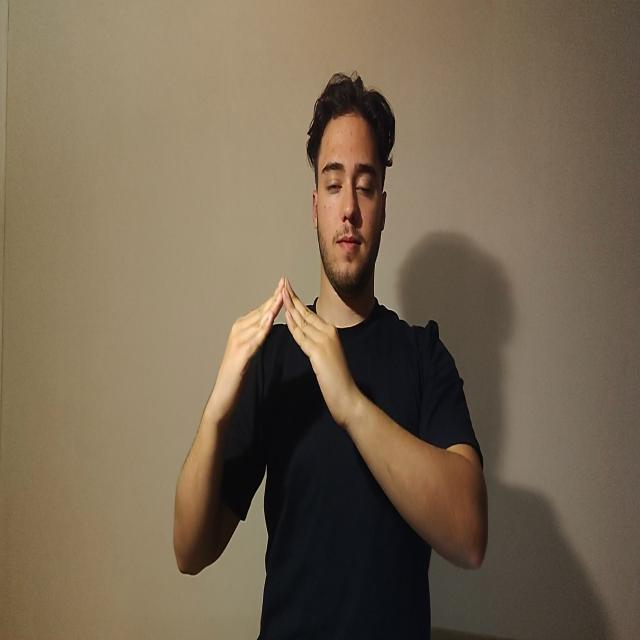house: (214, 277, 349, 429)
